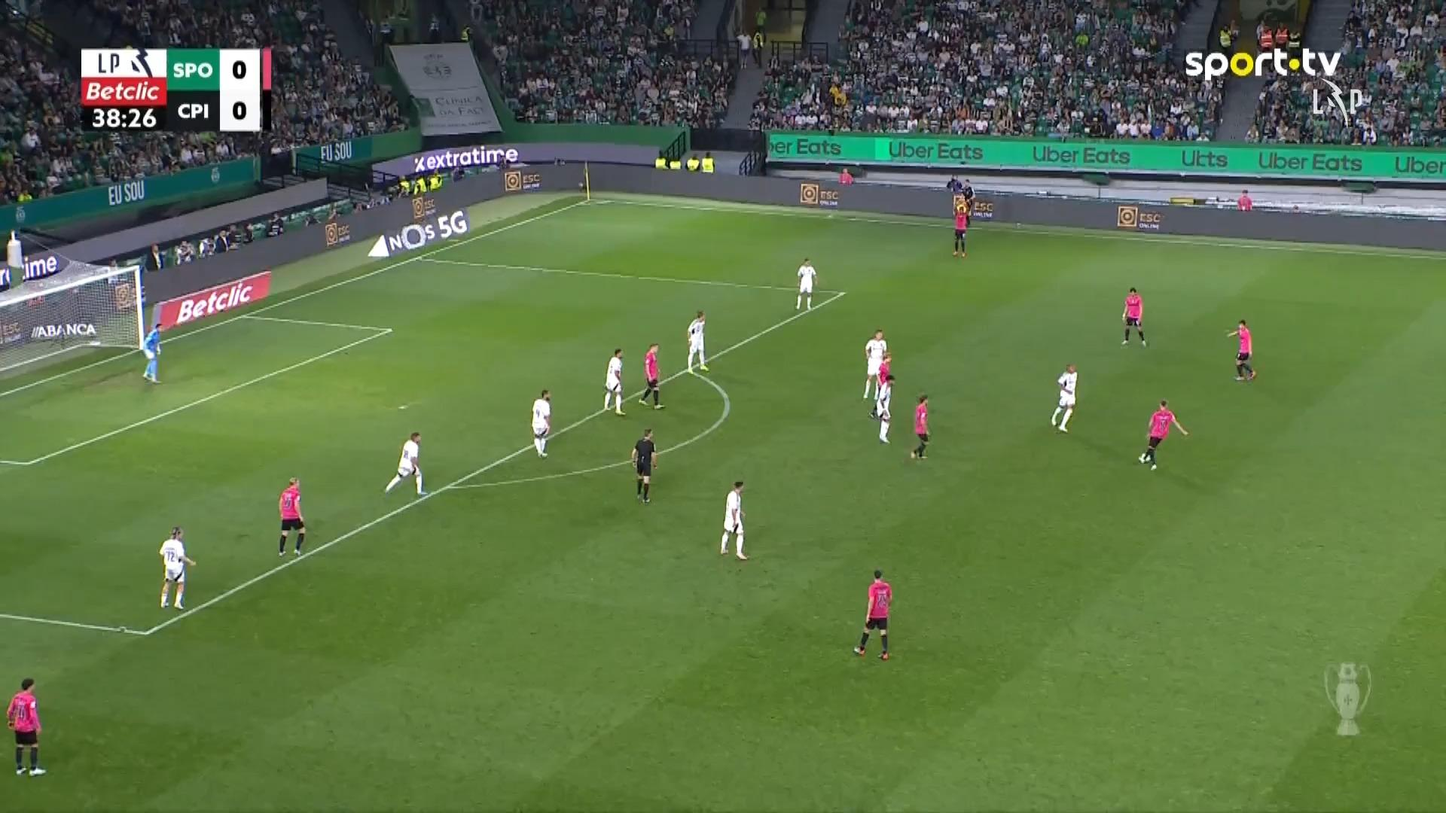goalkeeper: (141, 322, 163, 382)
player: (6, 677, 46, 775), (1138, 398, 1188, 470), (853, 568, 892, 660), (158, 525, 197, 610), (383, 431, 426, 496), (276, 477, 307, 556), (719, 480, 749, 559), (1225, 318, 1255, 382), (1050, 364, 1078, 432), (863, 328, 888, 400), (638, 343, 664, 409), (868, 351, 892, 419), (602, 348, 626, 415), (1121, 286, 1147, 346), (873, 373, 895, 443), (685, 309, 709, 373), (531, 388, 551, 458), (910, 394, 930, 460), (795, 257, 816, 311), (950, 199, 969, 257)
referee: (630, 428, 657, 504)
